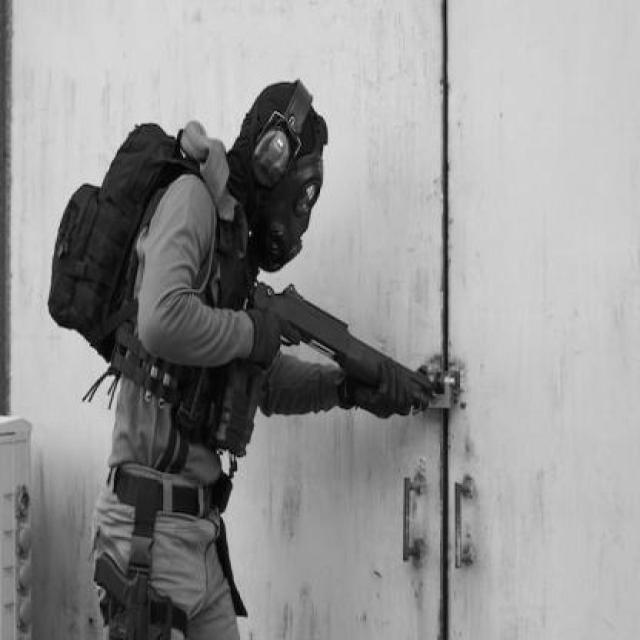weapon: (169, 281, 440, 448)
